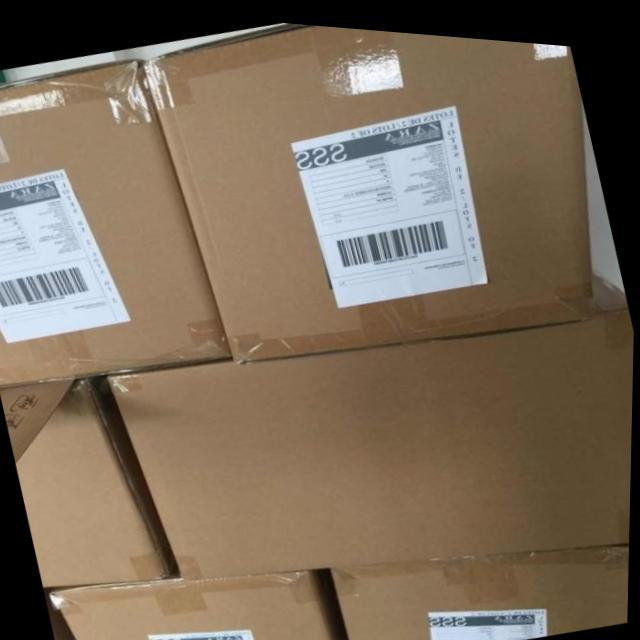box: (105, 260, 635, 577), (146, 19, 595, 362), (0, 58, 228, 385), (1, 373, 182, 585), (329, 536, 631, 640), (52, 563, 344, 640)
